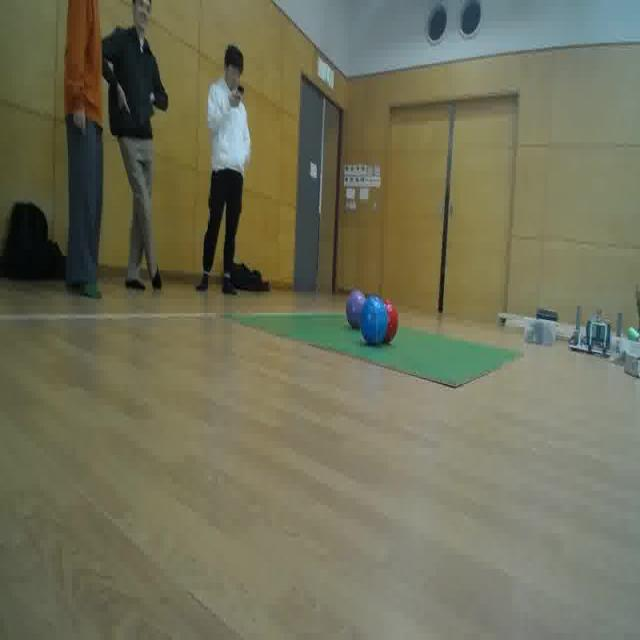blue_ball: (361, 295, 387, 343)
purple_ball: (344, 289, 369, 334)
red_ball: (379, 299, 401, 340)
